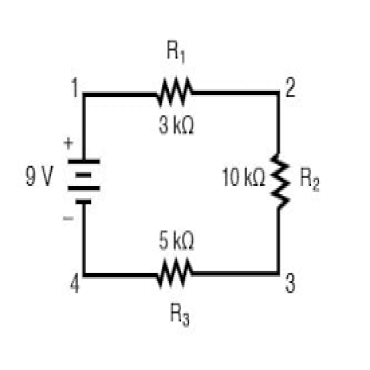Resistor: (222, 152, 322, 210), (154, 39, 196, 136), (157, 227, 196, 326)
Voltage Source: (26, 137, 102, 223)
